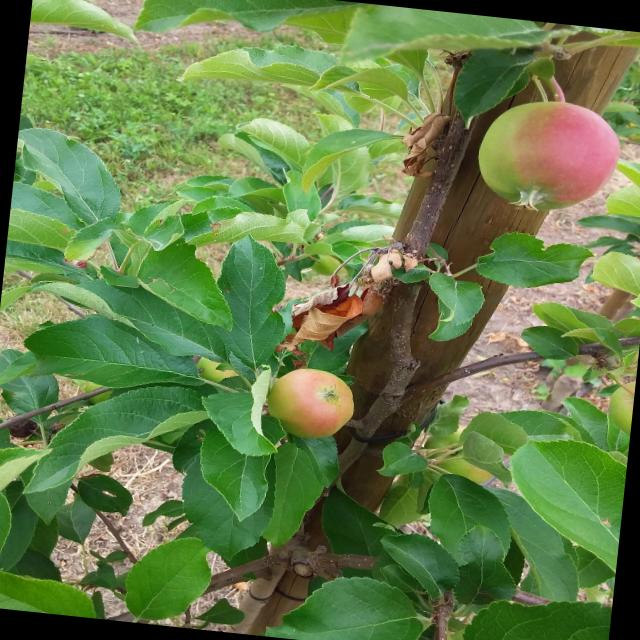-FireBlight-: (284, 238, 392, 356)
